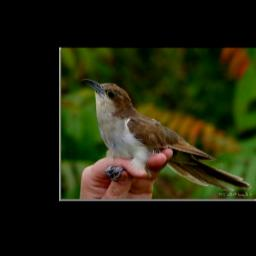Cuckoo: (81, 78, 253, 190)
